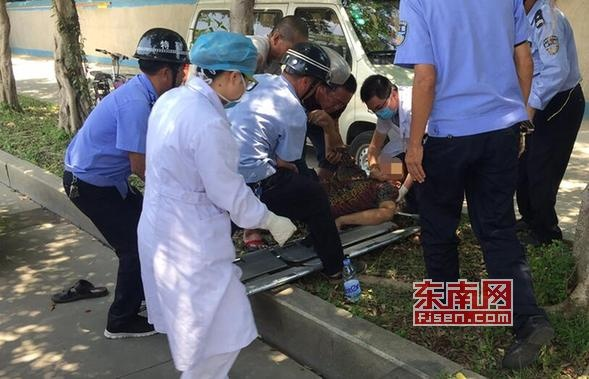falling: (240, 131, 420, 255)
